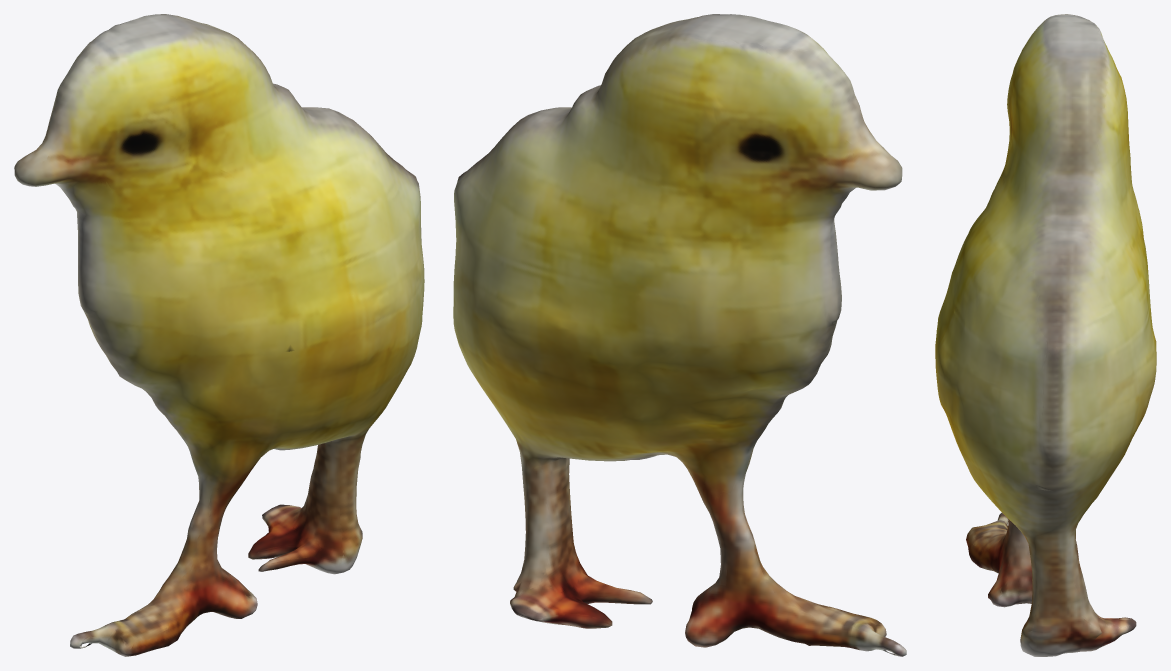
File: bebe.glb
3 views of the same model, side by side, from view 1: azimuth 30°, elevation 25°; view 2: azimuth 150°, elevation 25°; view 3: azimuth 270°, elevation 25° (orthographic). The views are drawn at different scales.
Visible parts, largest first — view 1: mesh; view 2: mesh; view 3: mesh.
Part boxes in pixels (x1,y1,x2,y2): mesh: (14,14,424,656); mesh: (453,14,906,656); mesh: (935,14,1156,656).
Bounding box in the file's own units: 1.25 × 1.74 × 0.6355.
Materials: 1 (1 with a texture image).
